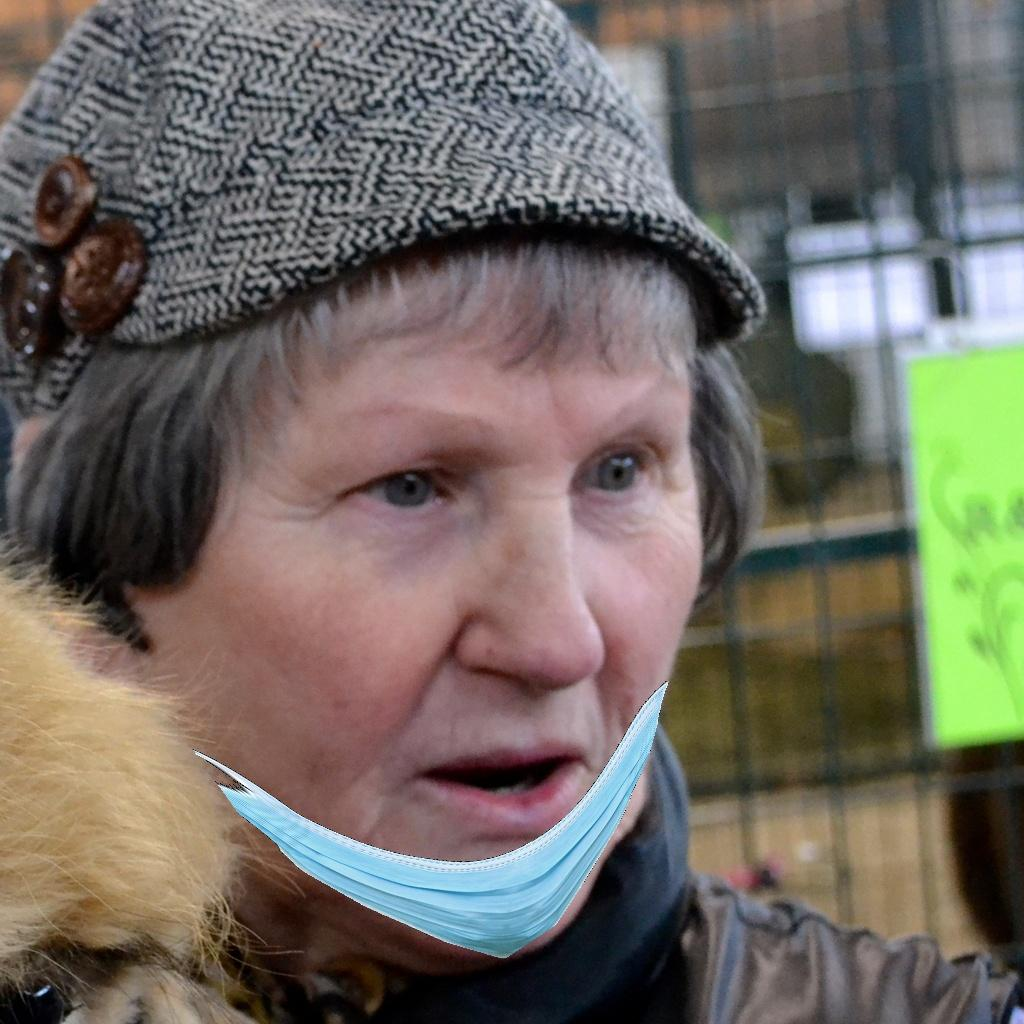Máscara Incorreta: (206, 285, 699, 949)
